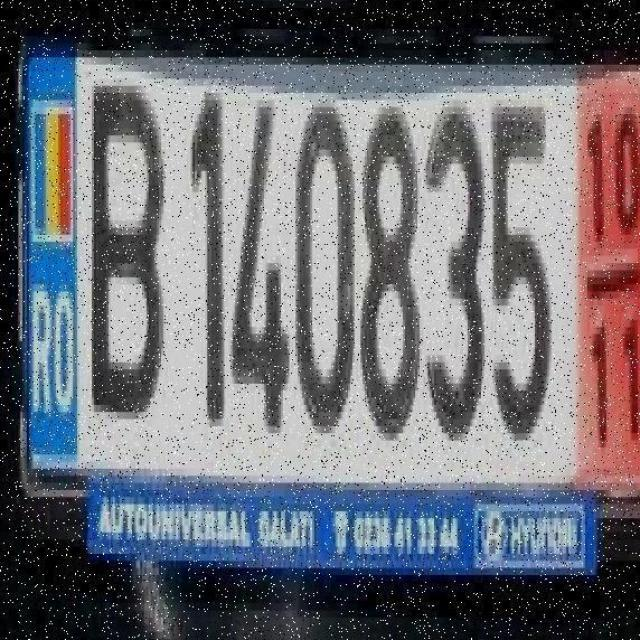license-plate: (24, 60, 640, 563)
